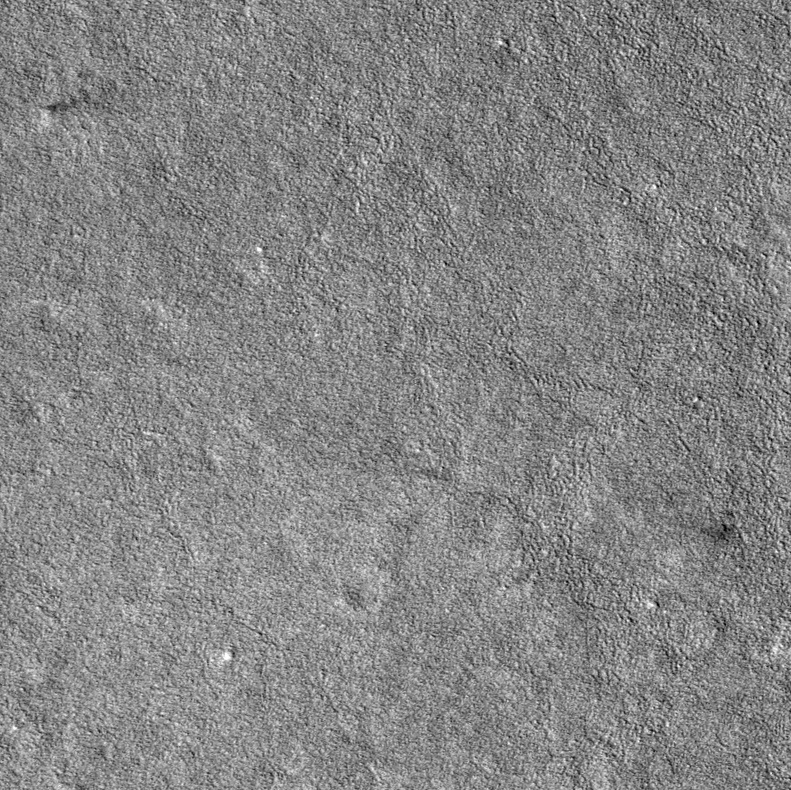dust_devil: (37, 86, 91, 128)
